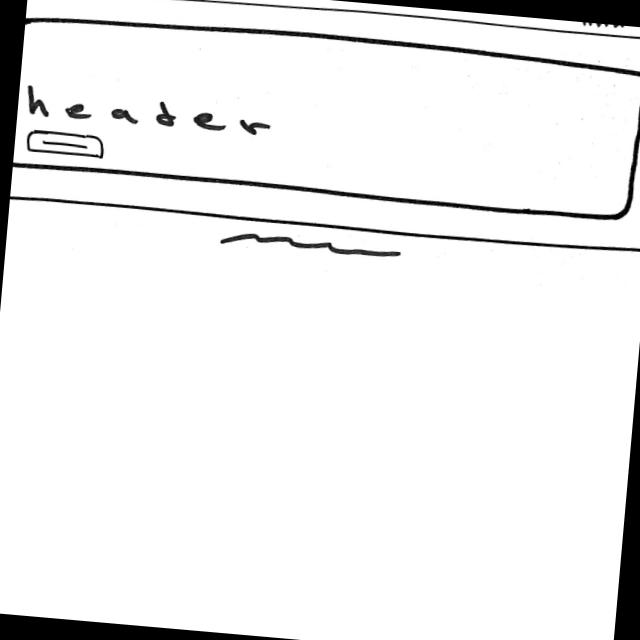container: (13, 7, 640, 224), (28, 1, 640, 45)
icon-button: (22, 130, 109, 162)
label: (21, 85, 275, 141)
text: (220, 230, 407, 263)
